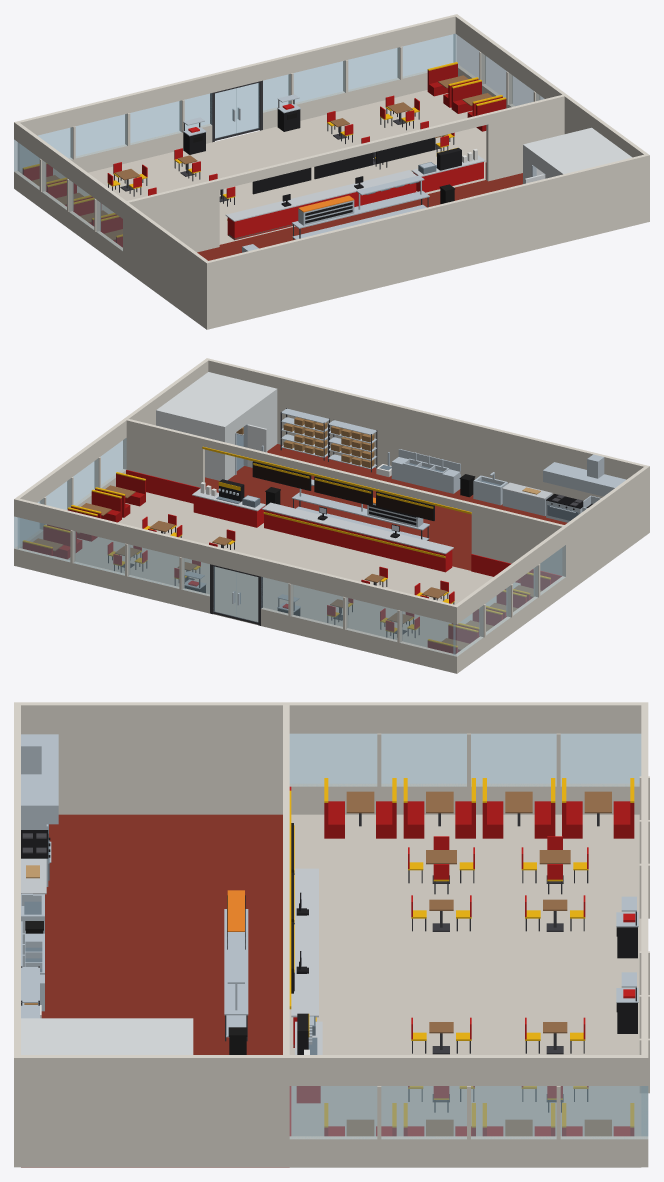
File: mcd_restaurant.obj
3 renders of one model, top to bottom at view 1: azimuth 30°, elevation 25°; view 2: azimuth 150°, elevation 25°; view 3: azimuth 270°, elevation 25°, orthographic. The views are drawn at different scales.
Visible parts, largest first — view 1: Wall_Back, Wall_Front_Windows, Floor_Lobby, Wall_Lobby_Left_Windows, Wall_Kitchen_Left, Wall_Lobby_Right_Windows, Partition_Right, Partition_Left, Front_Counter, Walk_In_Freezer, Counter_Header, Floor_Kitchen (+21 smaller); view 2: Wall_Front_Windows, Floor_Lobby, Wall_Back, Wall_Lobby_Left_Windows, Walk_In_Freezer, Floor_Kitchen, Wall_Kitchen_Left, Wall_Lobby_Right_Windows, Front_Counter, Partition_Right, Partition_Left, Counter_Header (+27 smaller); view 3: Floor_Lobby, Floor_Kitchen, Wall_Lobby_Right_Windows, Wall_Lobby_Left_Windows, Wall_Kitchen_Right, Wall_Kitchen_Left, Walk_In_Freezer, Wall_Front_Windows, Front_Counter, Range_Hood, Wall_Back, Booth_2 (+26 smaller).
Part boxes in pixels (x1,y1,x2,y2): Wall_Back: [204, 154, 649, 329]; Wall_Front_Windows: [18, 15, 455, 178]; Floor_Lobby: [77, 90, 486, 244]; Wall_Lobby_Left_Windows: [14, 121, 125, 267]; Wall_Kitchen_Left: [123, 201, 207, 327]; Wall_Lobby_Right_Windows: [453, 14, 565, 108]; Partition_Right: [485, 95, 564, 181]; Partition_Left: [127, 179, 219, 252]; Front_Counter: [225, 170, 416, 240]; Walk_In_Freezer: [523, 127, 632, 183]; Counter_Header: [218, 113, 488, 189]; Floor_Kitchen: [197, 173, 522, 260]; Wall_Front_Windows: [17, 498, 455, 672]; Floor_Lobby: [68, 492, 520, 646]; Wall_Back: [205, 358, 649, 533]; Wall_Lobby_Left_Windows: [453, 526, 565, 673]; Walk_In_Freezer: [156, 372, 277, 480]; Floor_Kitchen: [205, 444, 567, 570]; Wall_Kitchen_Left: [562, 467, 647, 593]; Wall_Lobby_Right_Windows: [14, 419, 126, 566]; Front_Counter: [262, 502, 453, 572]; Partition_Right: [126, 419, 204, 503]; Partition_Left: [471, 503, 564, 583]; Counter_Header: [202, 437, 473, 514]; Floor_Lobby: [289, 814, 641, 1167]; Floor_Kitchen: [21, 814, 289, 1167]; Wall_Lobby_Right_Windows: [289, 1055, 648, 1167]; Wall_Lobby_Left_Windows: [289, 702, 648, 814]; Wall_Kitchen_Right: [21, 1055, 289, 1167]; Wall_Kitchen_Left: [21, 702, 289, 814]; Walk_In_Freezer: [21, 1018, 193, 1054]; Wall_Front_Windows: [639, 705, 649, 1135]; Front_Counter: [291, 868, 318, 1047]; Range_Hood: [21, 734, 58, 824]; Wall_Back: [14, 702, 20, 1167]; Booth_2: [482, 778, 555, 838].
Size of the model in its own units: 24.5 by 3.6 by 18.45.
